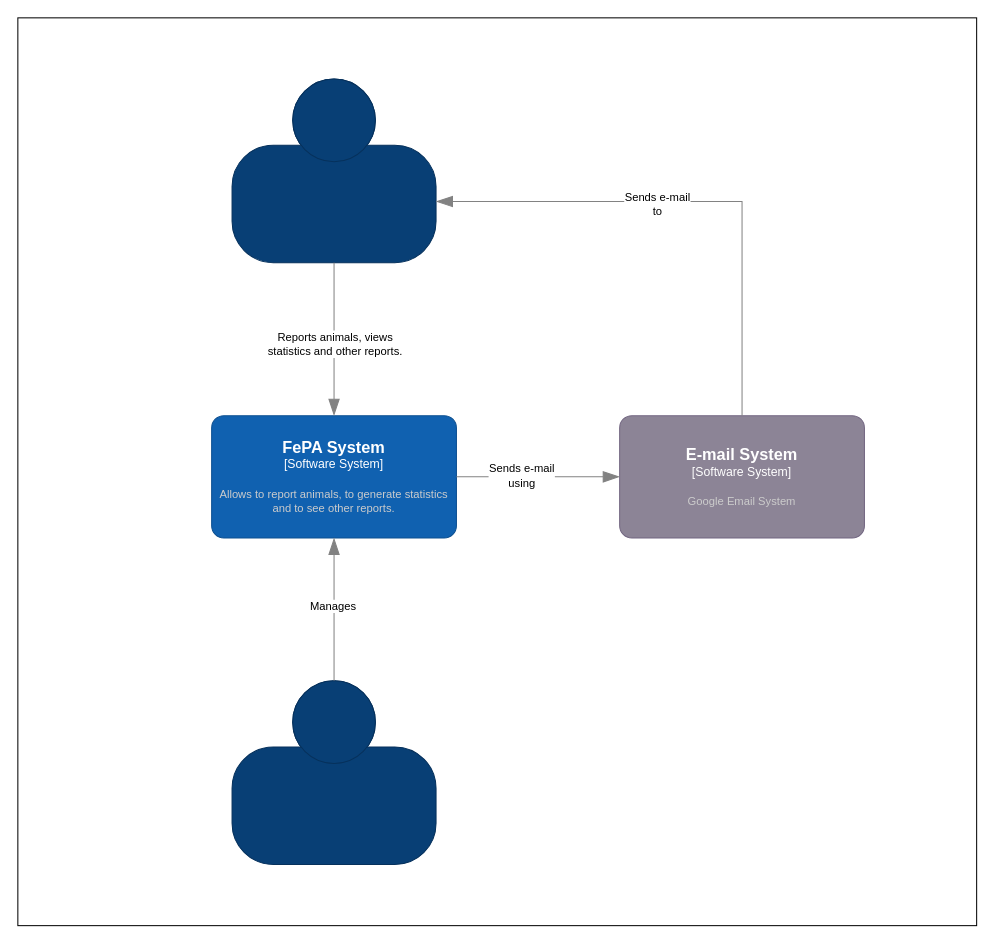
Image size: 995x944. Some labels were removed from this diagram. Each missing label, with the centre of its shape:
Admin [Person] Manages users and reports.: the point at 333,772
User [Person] A citizen who wants to report an animal.: the point at 333,170
